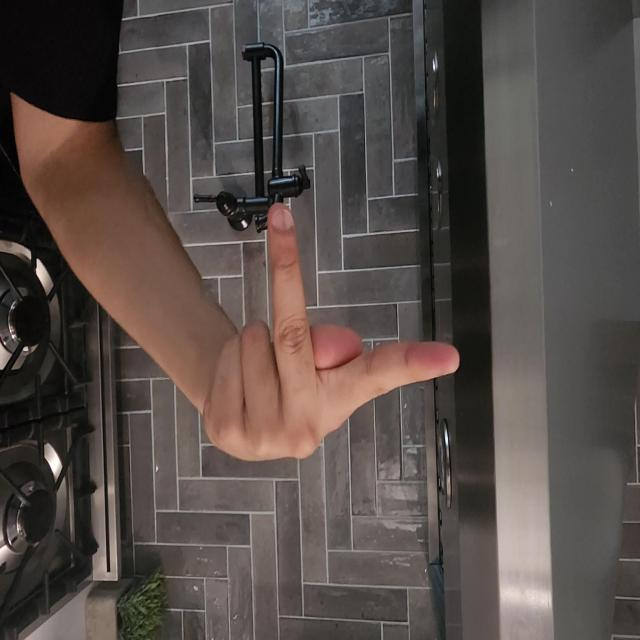K: (308, 233, 510, 586)
